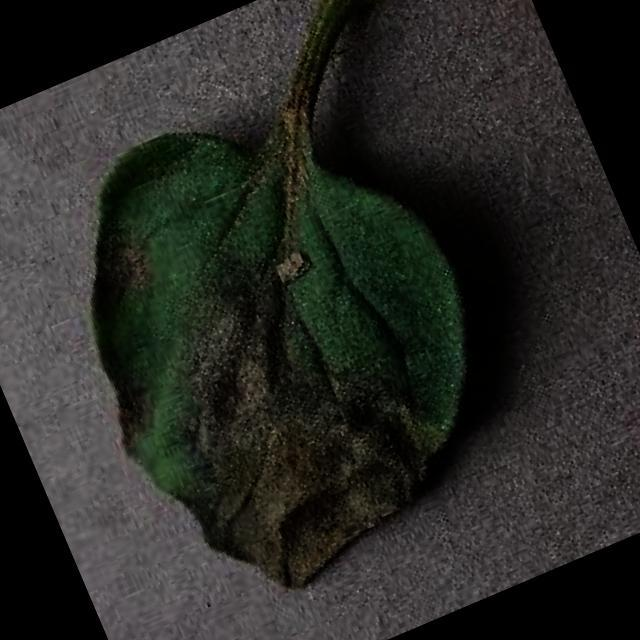Tomato late blight leaf: (19, 50, 548, 632)
